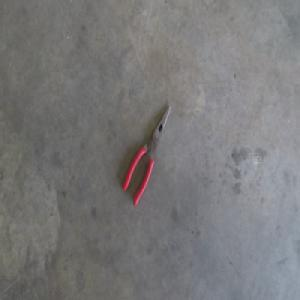Pliers: (120, 104, 170, 206)
